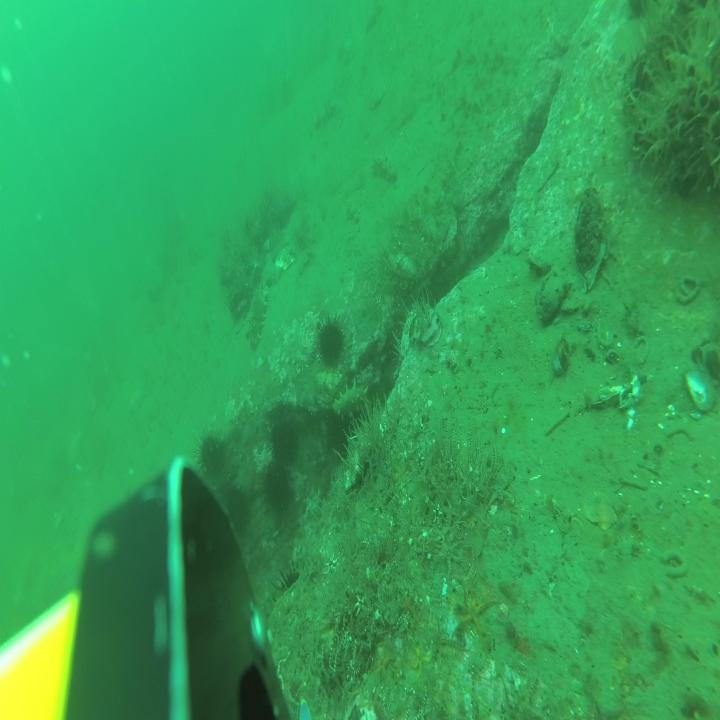echinus: (316, 315, 347, 373), (262, 458, 292, 516), (197, 426, 228, 482), (277, 559, 307, 616), (270, 408, 298, 465), (328, 410, 356, 455), (224, 488, 249, 536)
holothurian: (334, 380, 374, 429), (247, 282, 268, 351), (372, 154, 397, 185), (316, 99, 340, 128), (364, 1, 380, 37), (337, 41, 353, 68), (346, 203, 360, 225)
scallop: (585, 490, 617, 532), (274, 246, 295, 273), (369, 81, 386, 112)
starfish: (461, 578, 496, 636), (408, 635, 434, 680), (374, 650, 395, 682)
